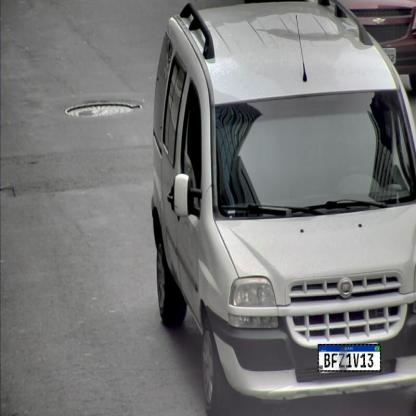PlacaM: (318, 344, 381, 372)
